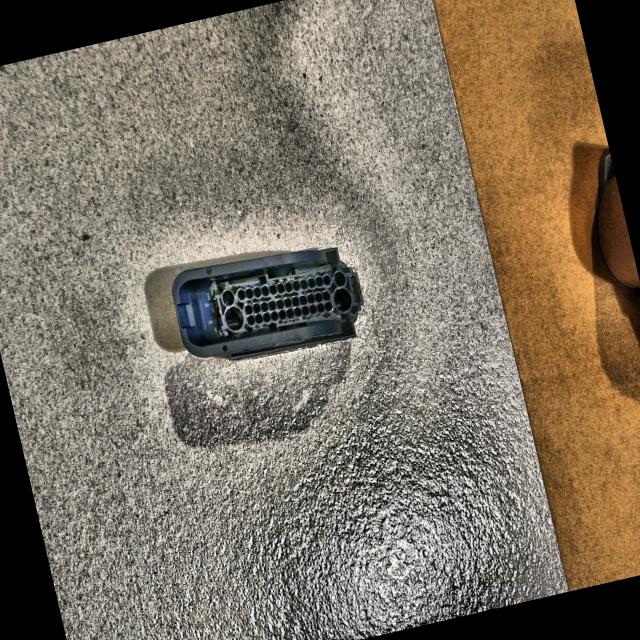P38: (171, 248, 362, 360)
